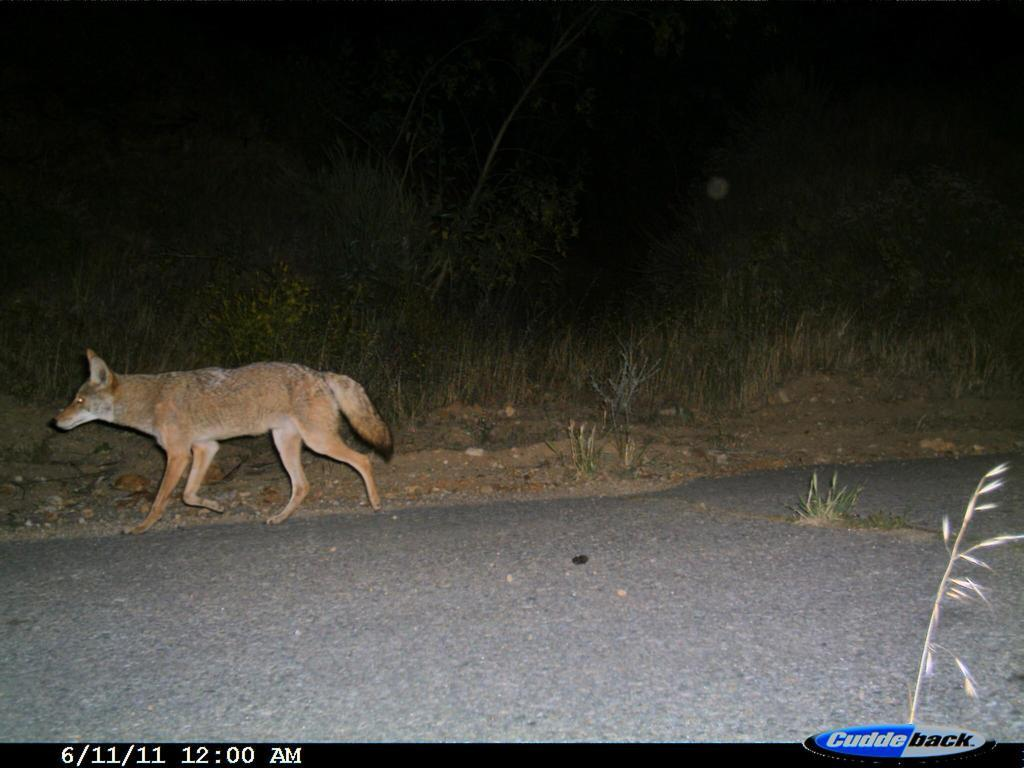coyote: (47, 341, 402, 533)
